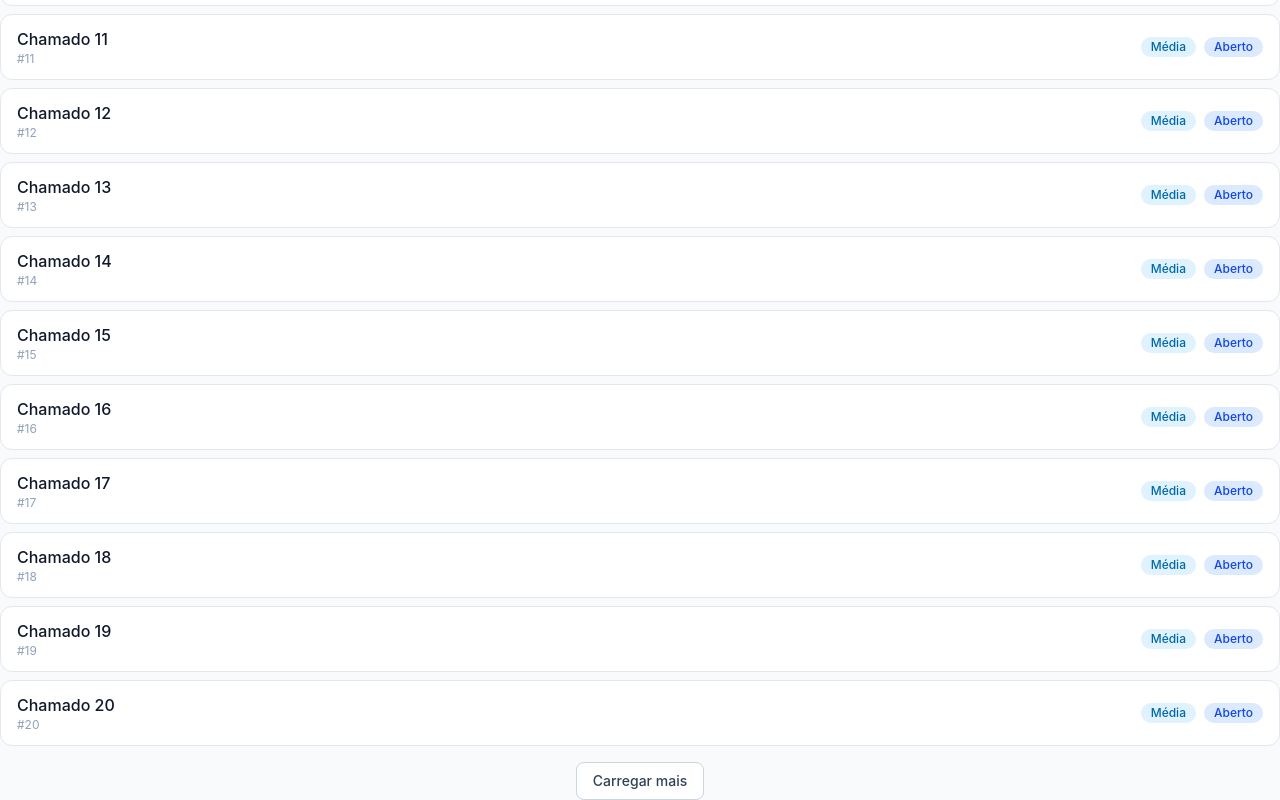
Scenario: TicketsPage › pagina com "Carregar mais": anexa a próxima página e esconde o botão no fim
(page scrolled)
Click the button "Carregar mais".
click(640, 781)  # box [576,762,704,799]
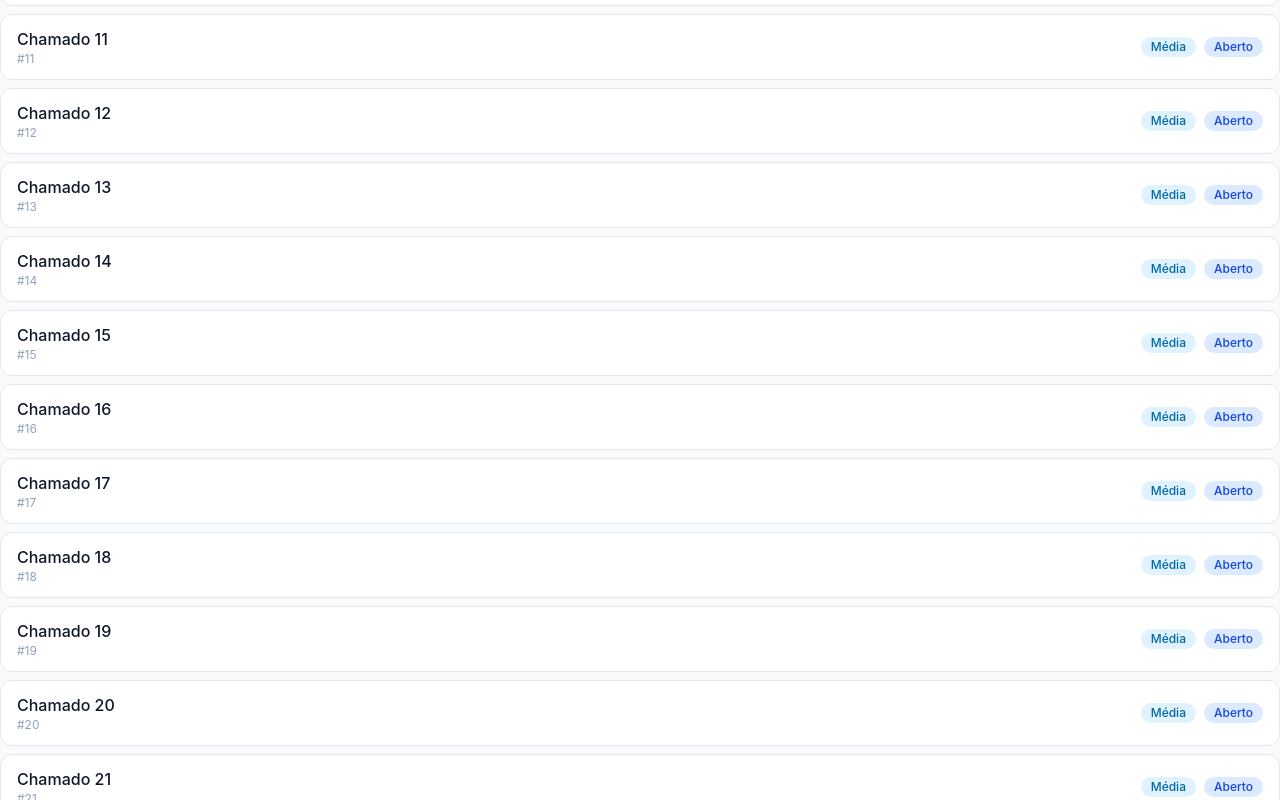
Expected: the text "Chamado 21" is shown, [17,767,111,791]
Expected: the button "Carregar mais" is gone
